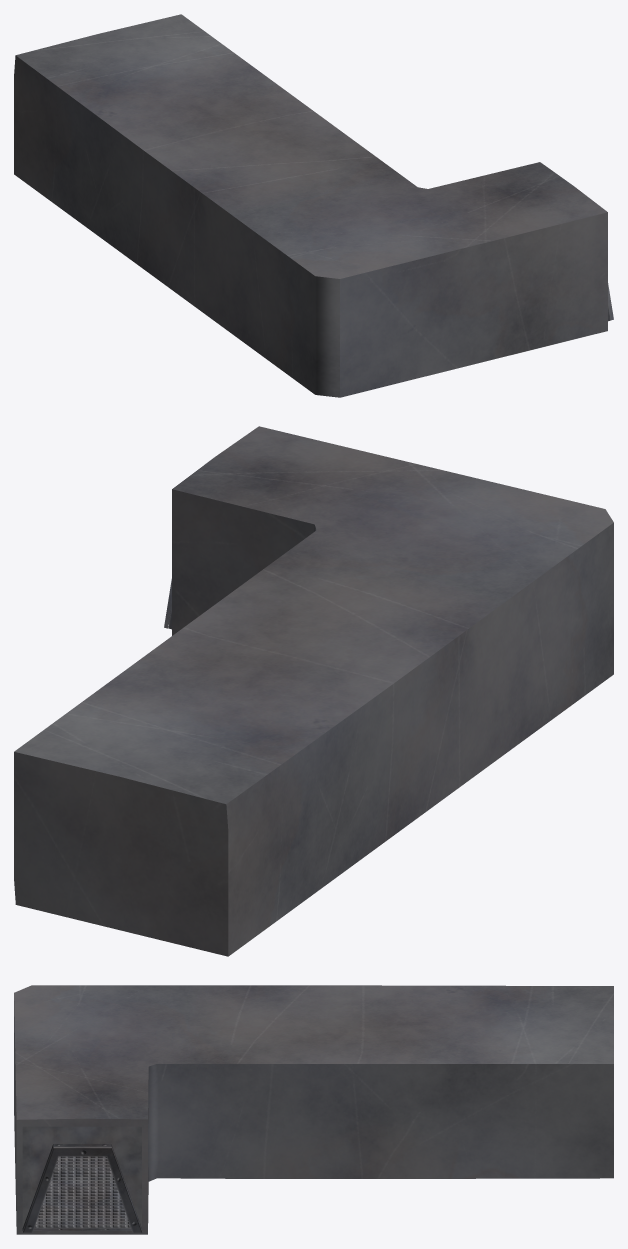
The model's file is Incinerator_Wing.fbx.
The picture shows the model from 3 angles, top to bottom: view 1: azimuth 30°, elevation 25°; view 2: azimuth 150°, elevation 25°; view 3: azimuth 270°, elevation 25°; orthographic projection. The views are drawn at different scales.
Visible parts, largest first — view 1: Incinerator_Wing; view 2: Incinerator_Wing; view 3: Incinerator_Wing.
Boxes of the visible parts, x1,y1,x2,y2 form: Incinerator_Wing: [14, 14, 613, 397]; Incinerator_Wing: [14, 426, 613, 956]; Incinerator_Wing: [14, 985, 613, 1234].
Size of the model in its own units: 1.3 by 0.5046 by 2.37.
